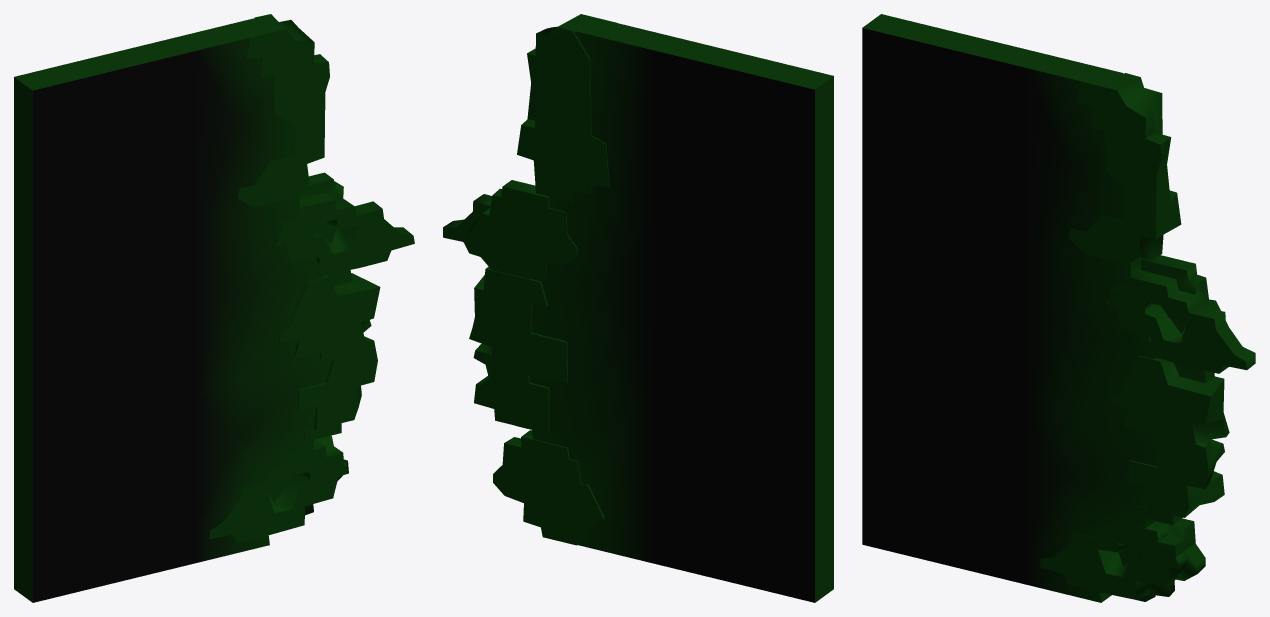
File: DBK_Brick_Side_C.fbx
The picture shows the model from 3 angles, left to right: view 1: azimuth 30°, elevation 25°; view 2: azimuth 150°, elevation 25°; view 3: azimuth 330°, elevation 25°; orthographic projection.
Visible parts, largest first — view 1: DBK_Brick_Side_C; view 2: DBK_Brick_Side_C; view 3: DBK_Brick_Side_C.
Boxes of the visible parts, box(x1,y1,x2,y2) form: DBK_Brick_Side_C: box(14, 14, 414, 602); DBK_Brick_Side_C: box(443, 14, 833, 602); DBK_Brick_Side_C: box(862, 14, 1255, 602).
Size of the model in its own units: 234 by 300 by 22.04.
